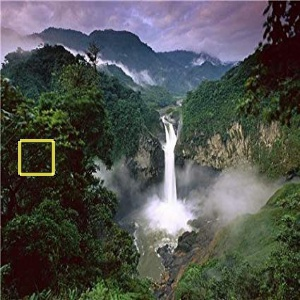square: (17, 138, 56, 178)
